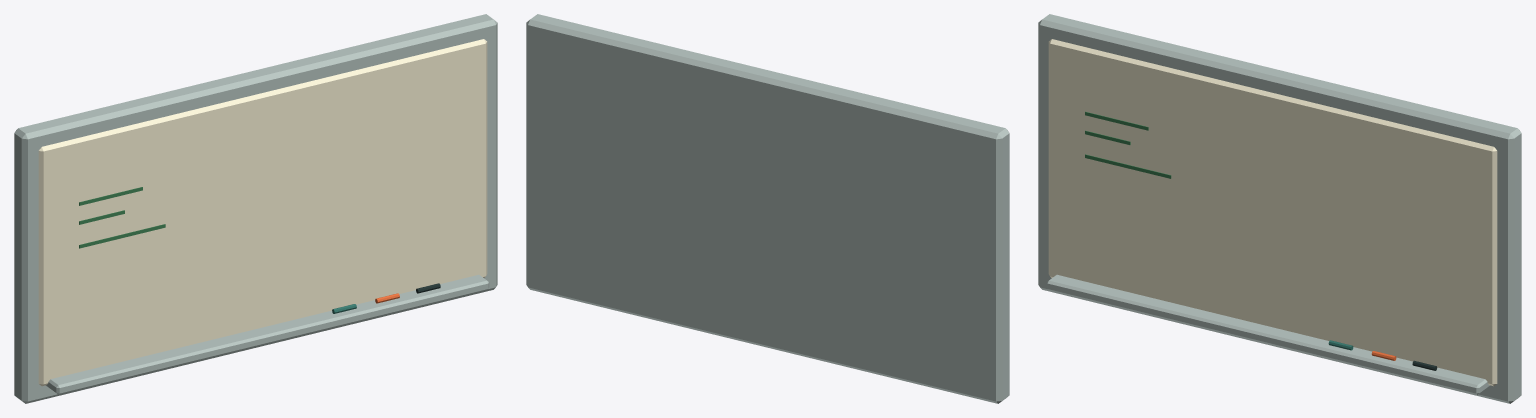
The model's file is whiteboard.glb.
The picture shows the model from 3 angles, left to right: view 1: azimuth 30°, elevation 25°; view 2: azimuth 150°, elevation 25°; view 3: azimuth 330°, elevation 25°; orthographic projection.
Parts seen in each view (by area): view 1: Superfície, Moldura, Calha; view 2: Moldura; view 3: Superfície, Moldura, Calha.
Boxes of the visible parts, x1,y1,x2,y2 form: Superfície: (38, 39, 487, 386); Moldura: (14, 14, 497, 403); Calha: (46, 274, 489, 394); Moldura: (526, 14, 1009, 403); Superfície: (1048, 39, 1497, 386); Moldura: (1038, 14, 1521, 403); Calha: (1046, 274, 1489, 394).
Size of the model in its own units: 2.1 by 1.14 by 0.183.
